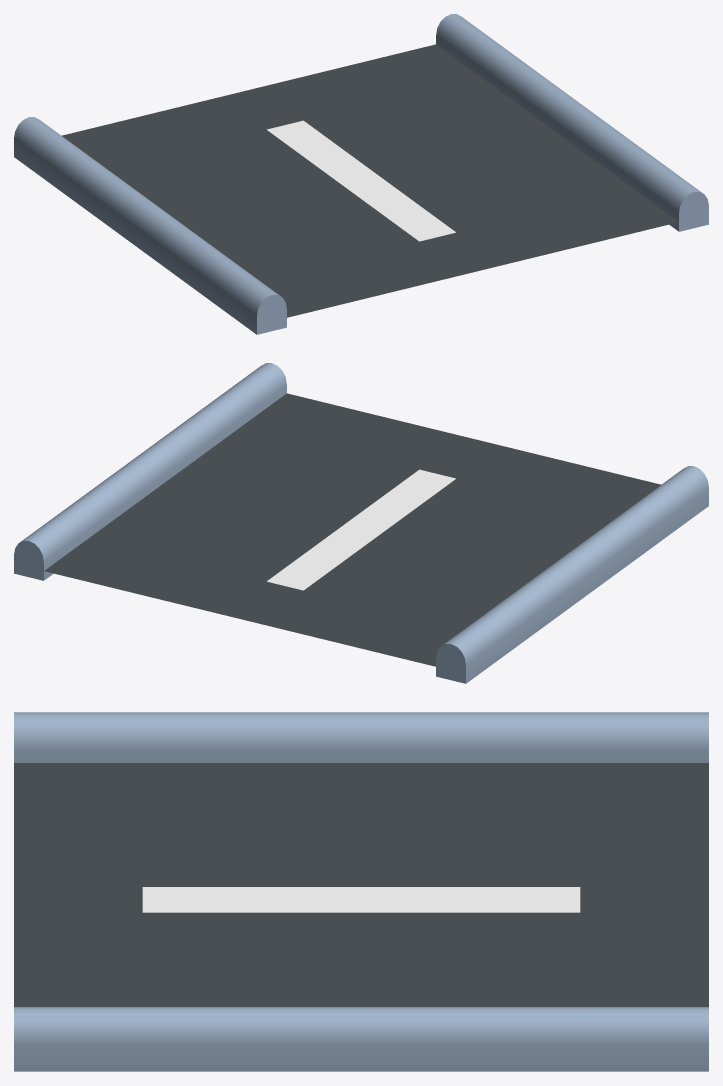
The model's file is Road.fbx.
3 renders of one model, top to bottom at view 1: azimuth 30°, elevation 25°; view 2: azimuth 150°, elevation 25°; view 3: azimuth 270°, elevation 25°, orthographic. The views are drawn at different scales.
Parts seen in each view (by area): view 1: Road; view 2: Road; view 3: Road.
Boxes of the visible parts, left/top/right/bottom form: Road: left=14, top=14, right=708, bottom=334; Road: left=14, top=363, right=708, bottom=683; Road: left=14, top=712, right=708, bottom=1071.
Size of the model in its own units: 5.48 by 0.4201 by 5.1.
